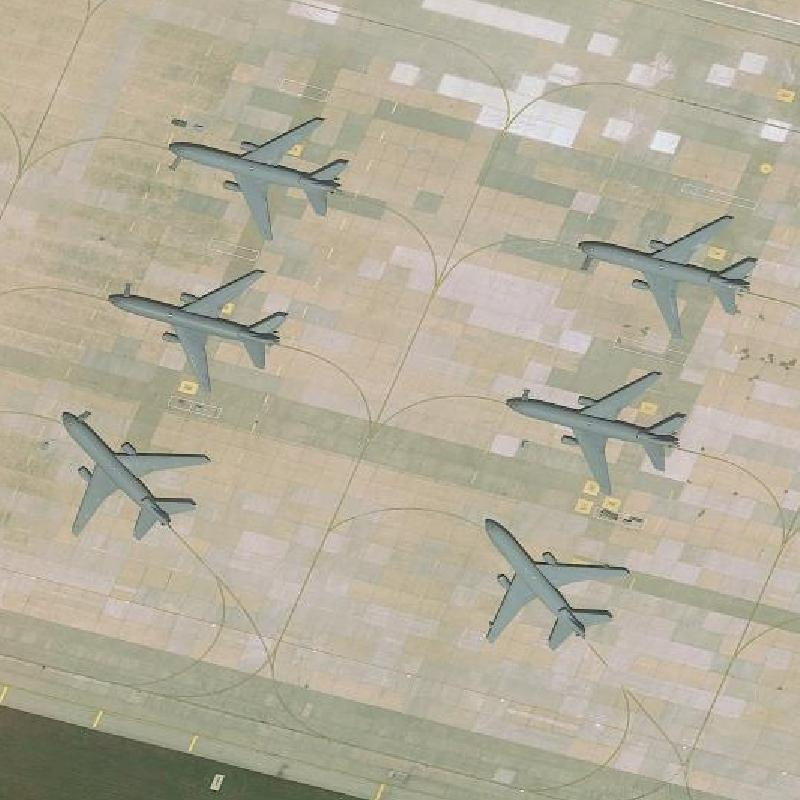A18: (159, 105, 354, 248), (568, 203, 761, 347), (497, 366, 691, 499), (103, 265, 292, 397), (53, 401, 220, 549), (472, 505, 634, 654)
